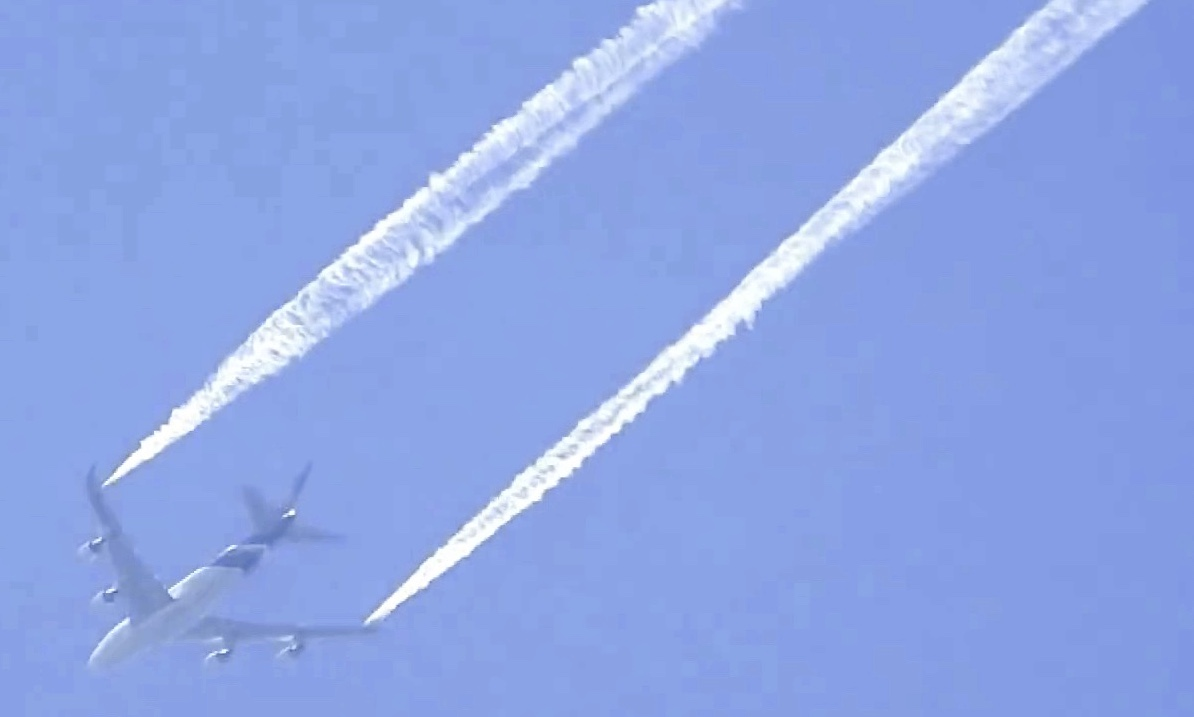plane: (72, 461, 381, 685)
